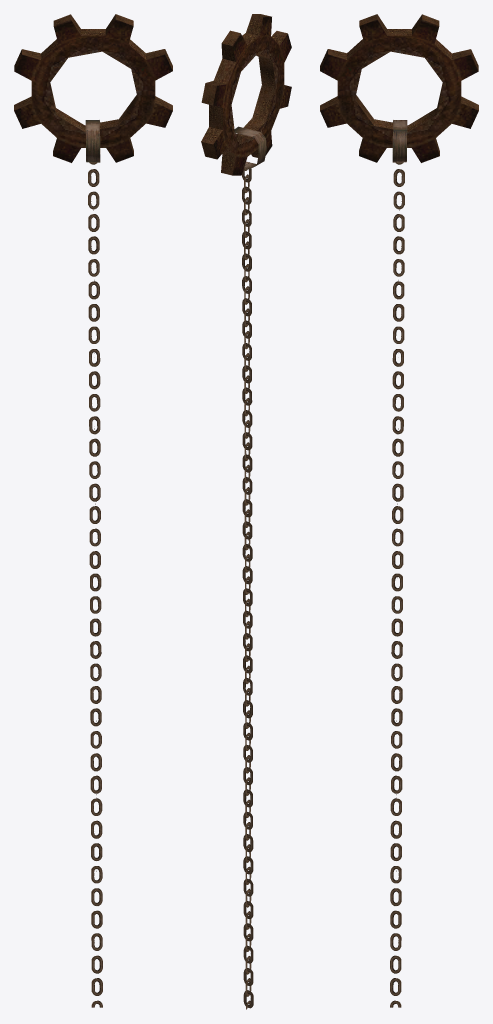
Rendered from gear_club3_5m.fbx.
3 views of the same model, side by side, from view 1: azimuth 90°, elevation 25°; view 2: azimuth 150°, elevation 25°; view 3: azimuth 270°, elevation 25° (orthographic).
Parts seen in each view (by area): view 1: mesh_0, mesh_1; view 2: mesh_0, mesh_1; view 3: mesh_0, mesh_1.
Part boxes in pixels (x1=…): mesh_0: x1=14, y1=14, x2=172, y2=162; mesh_1: x1=85, y1=120, x2=102, y2=1007; mesh_0: x1=201, y1=14, x2=291, y2=175; mesh_1: x1=234, y1=126, x2=266, y2=1009; mesh_0: x1=320, y1=14, x2=478, y2=162; mesh_1: x1=390, y1=120, x2=407, y2=1007.
Bounding box in the file's own units: 20.78 × 586 × 85.16.
2 materials, 2 textured.
